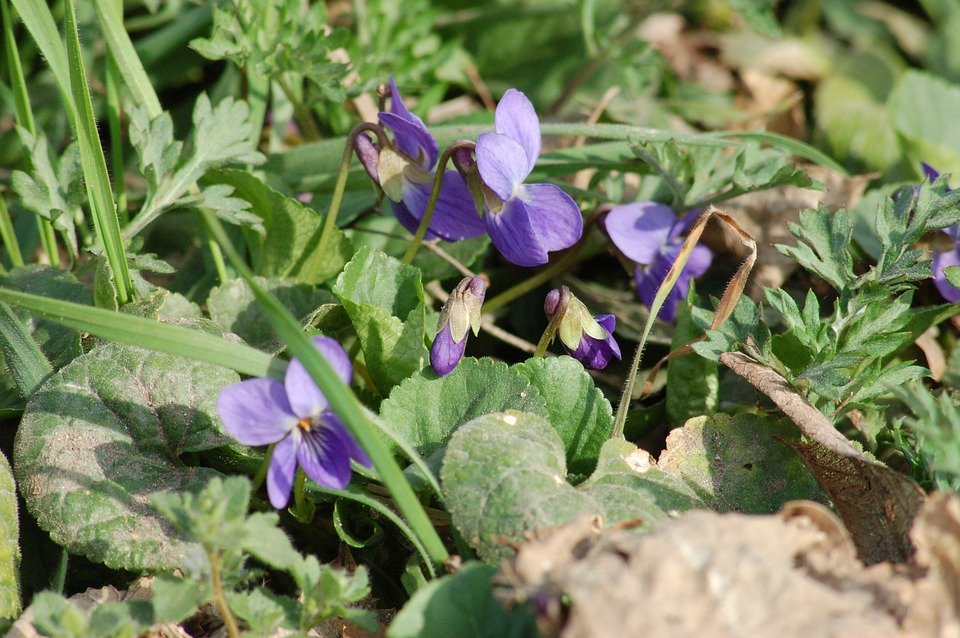violet: (177, 319, 375, 504), (431, 95, 586, 259), (597, 188, 716, 314)
